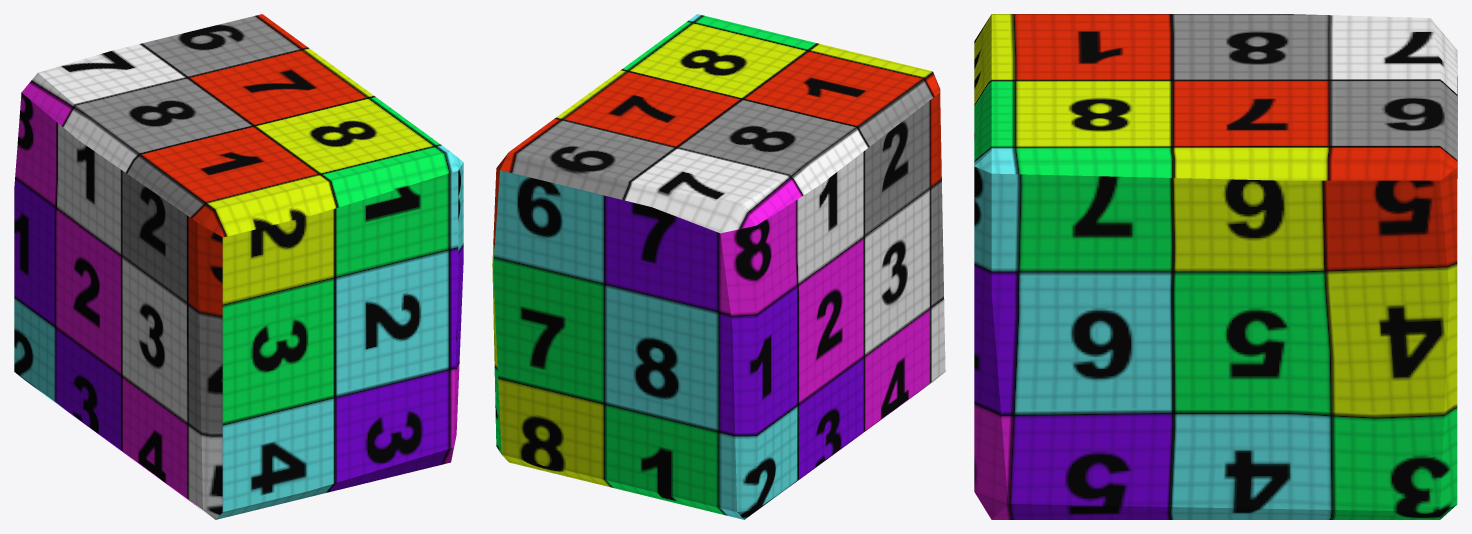
The model's file is bevelBoxMesh01.fbx.
The picture shows the model from 3 angles, left to right: view 1: azimuth 30°, elevation 25°; view 2: azimuth 150°, elevation 25°; view 3: azimuth 270°, elevation 25°; orthographic projection. The views are drawn at different scales.
Visible parts, largest first — view 1: BevelBox; view 2: BevelBox; view 3: BevelBox.
Boxes of the visible parts, x1,y1,x2,y2 form: BevelBox: (14, 14, 463, 519); BevelBox: (492, 14, 945, 519); BevelBox: (974, 14, 1457, 519).
Bounding box in the file's own units: 19.25 × 21.91 × 25.99.
Materials: 1 (1 with a texture image).
